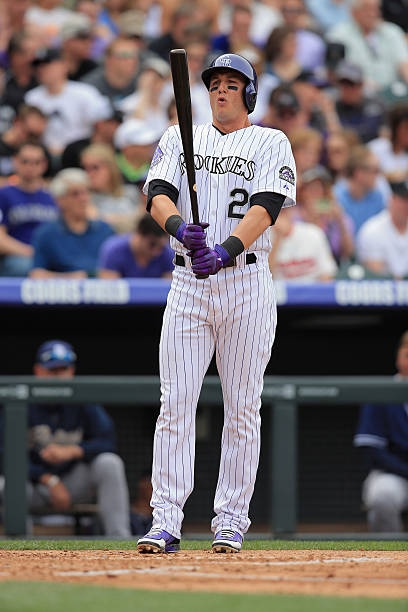bita: (168, 47, 210, 257)
